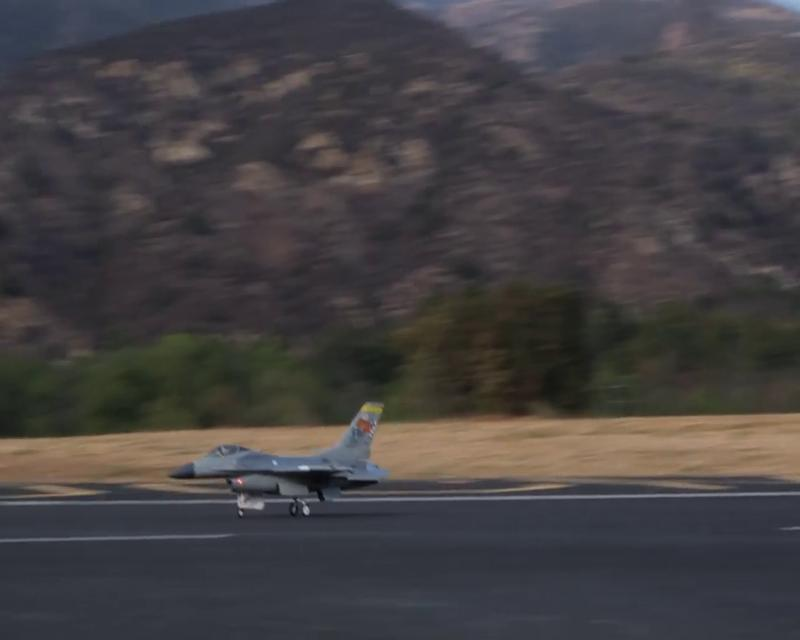UAV: (166, 399, 389, 518)
